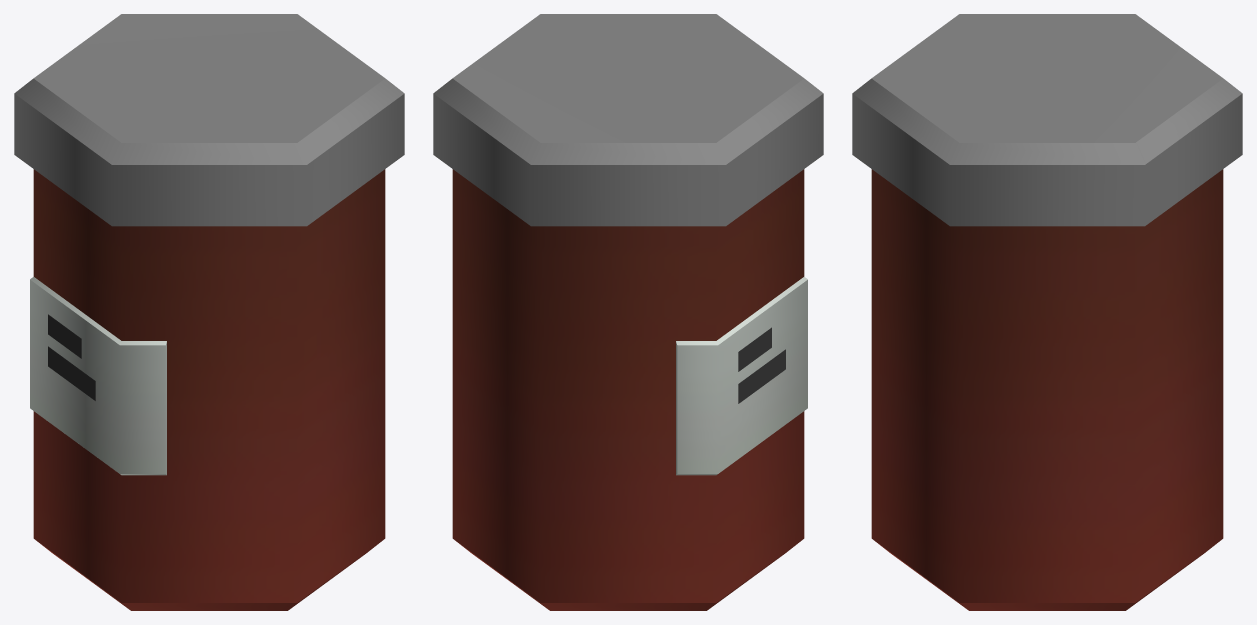
File: Jar_3_L.fbx
3 views of the same model, side by side, from view 1: azimuth 30°, elevation 25°; view 2: azimuth 150°, elevation 25°; view 3: azimuth 270°, elevation 25° (orthographic).
Parts seen in each view (by area): view 1: Jar_3_L; view 2: Jar_3_L; view 3: Jar_3_L.
Part boxes in pixels (left/top/right/bottom): Jar_3_L: left=14, top=14, right=404, bottom=610; Jar_3_L: left=433, top=14, right=823, bottom=610; Jar_3_L: left=852, top=14, right=1242, bottom=610.
Size of the model in its own units: 17.99 by 27.9 by 20.77.
